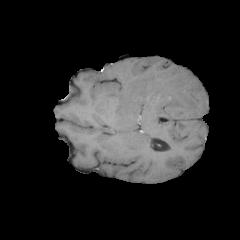glioma: (106, 67, 199, 134)
